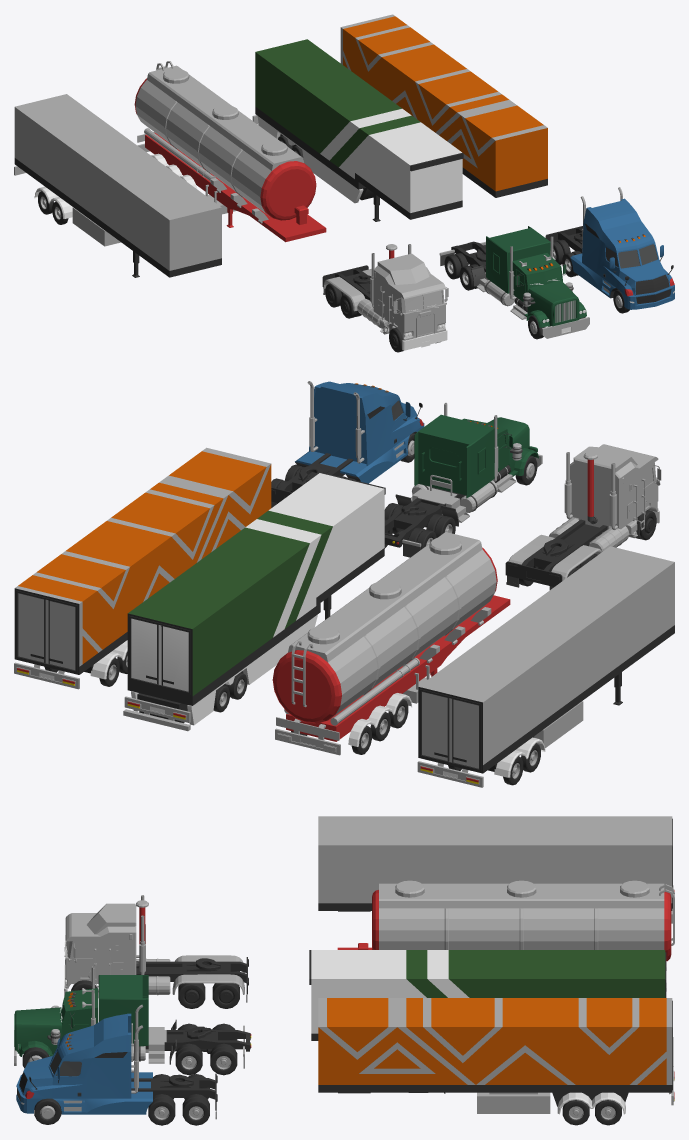
The model's file is TrucksC4D.fbx.
The picture shows the model from 3 angles, top to bottom: view 1: azimuth 30°, elevation 25°; view 2: azimuth 150°, elevation 25°; view 3: azimuth 270°, elevation 25°; orthographic projection. The views are drawn at different scales.
Parts seen in each view (by area): view 1: TrailerBox_4, TrailerBox_2, TrailerBox_3, Bl, Cabin_2, Cabin, cabin, TrailerBox, Box, Trailer1, wheels, wheels_2 (+6 smaller); view 2: TrailerBox_4, TrailerBox_2, TrailerBox_3, Bl, Cabin_2, Cabin, Box, Trailer1, TrailerBox, bottom, Trailer4, Trailer2 (+15 smaller); view 3: TrailerBox_3, TrailerBox_2, Bl, TrailerBox_4, Cabin_2, Cabin, cabin, Box, wheels_2, Trailer3, bottom, Bottom (+10 smaller).
Boxes of the visible parts, left/top/right/bottom form: TrailerBox_4: left=255, top=39, right=463, bottom=221; TrailerBox_2: left=14, top=94, right=221, bottom=277; TrailerBox_3: left=340, top=14, right=547, bottom=197; Bl: left=134, top=61, right=316, bottom=223; Cabin_2: left=570, top=198, right=674, bottom=309; Cabin: left=373, top=253, right=445, bottom=340; cabin: left=512, top=253, right=579, bottom=326; TrailerBox: left=145, top=132, right=326, bottom=242; Box: left=486, top=226, right=550, bottom=293; Trailer1: left=252, top=115, right=363, bottom=203; wheels: left=325, top=283, right=440, bottom=352; wheels_2: left=553, top=239, right=629, bottom=313; TrailerBox_4: left=127, top=472, right=385, bottom=723; TrailerBox_2: left=418, top=546, right=674, bottom=773; TrailerBox_3: left=14, top=447, right=271, bottom=674; Bl: left=272, top=532, right=497, bottom=725; Cabin_2: left=295, top=381, right=424, bottom=483; Cabin: left=570, top=444, right=658, bottom=529; Box: left=414, top=414, right=494, bottom=498; Trailer1: left=123, top=615, right=317, bottom=731; TrailerBox: left=286, top=595, right=510, bottom=741; bottom: left=505, top=519, right=607, bottom=586; Trailer4: left=275, top=665, right=429, bottom=755; Trailer2: left=417, top=701, right=583, bottom=787; TrailerBox_3: left=318, top=998, right=672, bottom=1106; TrailerBox_2: left=318, top=816, right=672, bottom=911; Bl: left=372, top=880, right=674, bottom=961; TrailerBox_4: left=309, top=950, right=666, bottom=1040; Cabin_2: left=16, top=1013, right=152, bottom=1114; Cabin: left=64, top=903, right=136, bottom=988; cabin: left=14, top=988, right=97, bottom=1055; Box: left=98, top=975, right=148, bottom=1046; wheels_2: left=34, top=1074, right=209, bottom=1125; Trailer3: left=477, top=1067, right=674, bottom=1113; bottom: left=136, top=957, right=248, bottom=994; Bottom: left=145, top=1026, right=250, bottom=1053.
Size of the model in its own units: 1286 by 313 by 1689.
